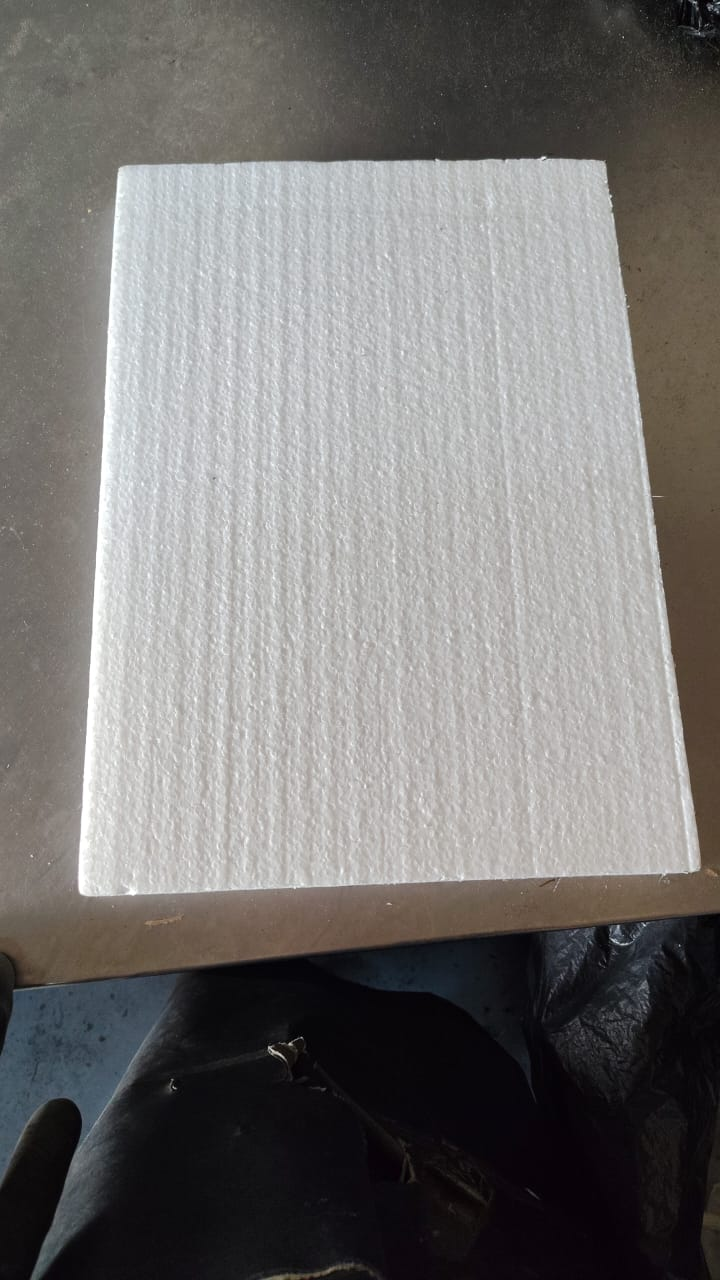Ordinario: (79, 157, 703, 902)
